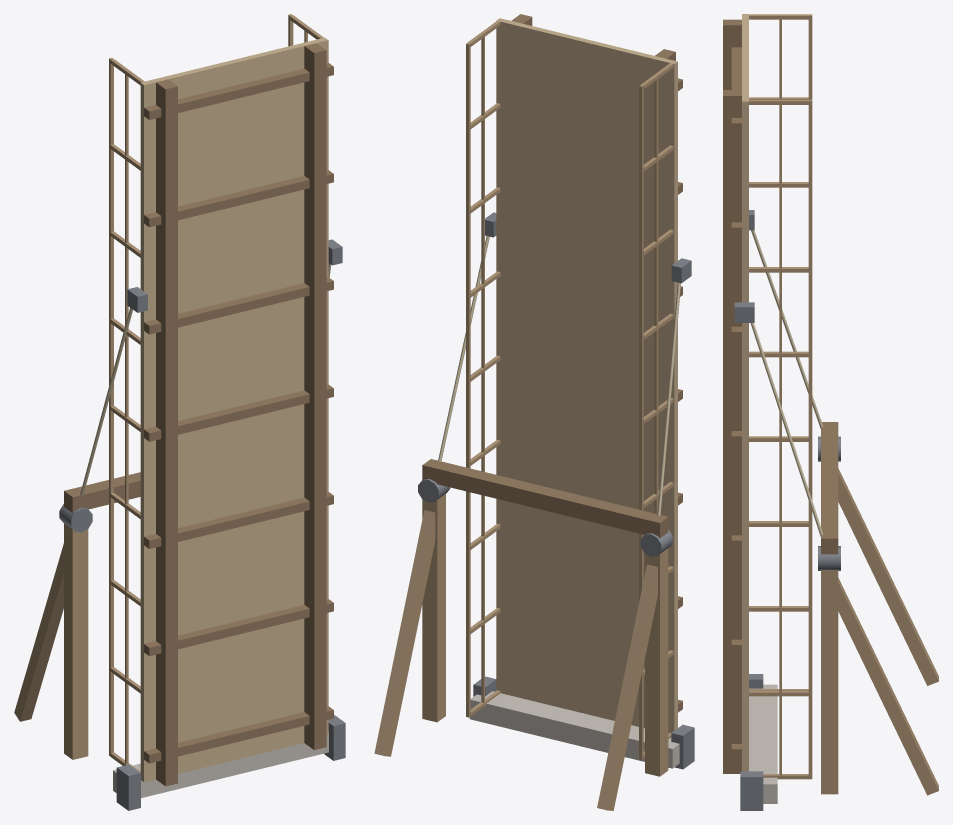
Rendered from bascule_timber.glb.
3 views of the same model, side by side, from view 1: azimuth 30°, elevation 25°; view 2: azimuth 150°, elevation 25°; view 3: azimuth 270°, elevation 25° (orthographic). The views are drawn at different scales.
Parts seen in each view (by area): view 1: span, bridge, cable_l; view 2: span, bridge, cable_l, cable_r; view 3: span, bridge, cable_r, cable_l.
Boxes of the visible parts, x1,y1,x2,y2 form: span: (109,14,342,786); bridge: (14,472,345,810); cable_l: (80,307,132,497); span: (466,14,691,759); bridge: (374,459,694,810); cable_l: (657,282,680,515); cable_r: (438,236,489,461); span: (723,14,812,779); bridge: (740,422,938,810); cable_r: (750,323,822,536); cable_l: (751,230,823,428).
Bounding box in the file's own units: 4.92 × 13.45 × 3.75.
